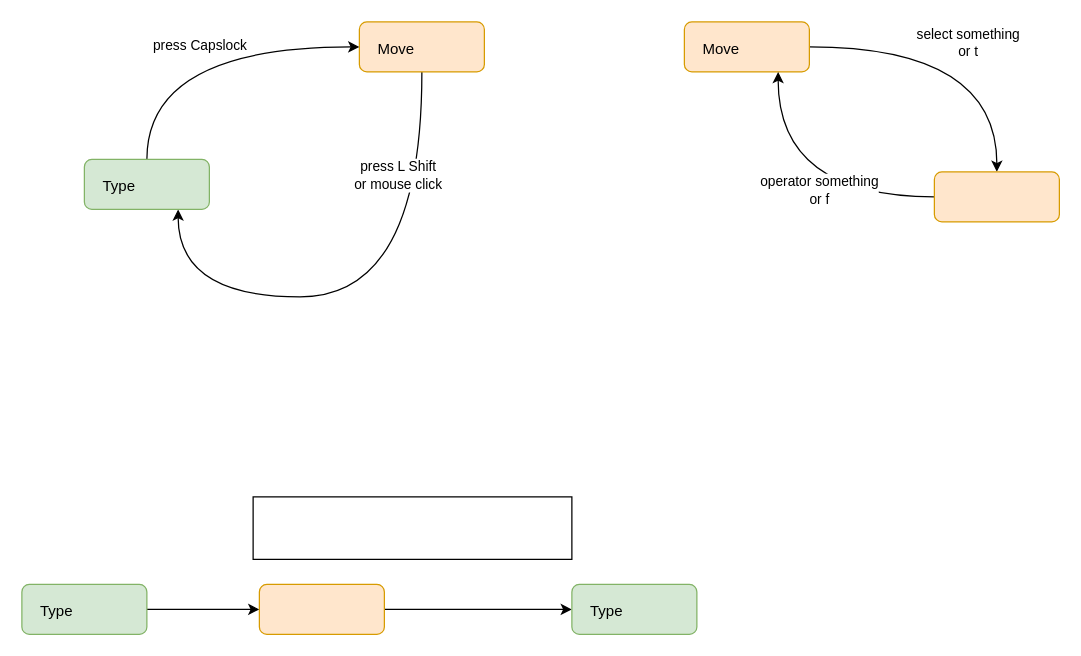
Some shapes in this 1081 by 656 pixel diagram are drawn without their labels. Each missing label, with the box of its shape:
hold Capslock ------------------: (252, 496, 572, 559)
Move / Select: (258, 583, 384, 634)
Select: (933, 171, 1059, 222)
